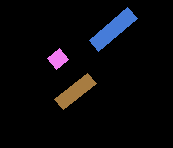parkingspot: (89, 7, 137, 51), (54, 73, 96, 109), (47, 48, 68, 69)
